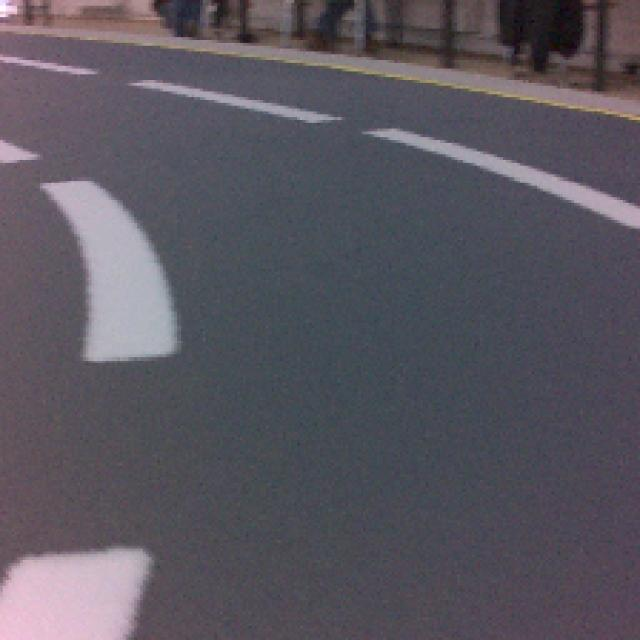Road: (126, 450, 640, 640)
